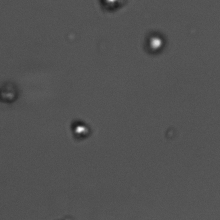Dead Cell: (1, 79, 18, 104)
Living Cell: (67, 118, 92, 140), (144, 29, 166, 53), (97, 1, 126, 12)
